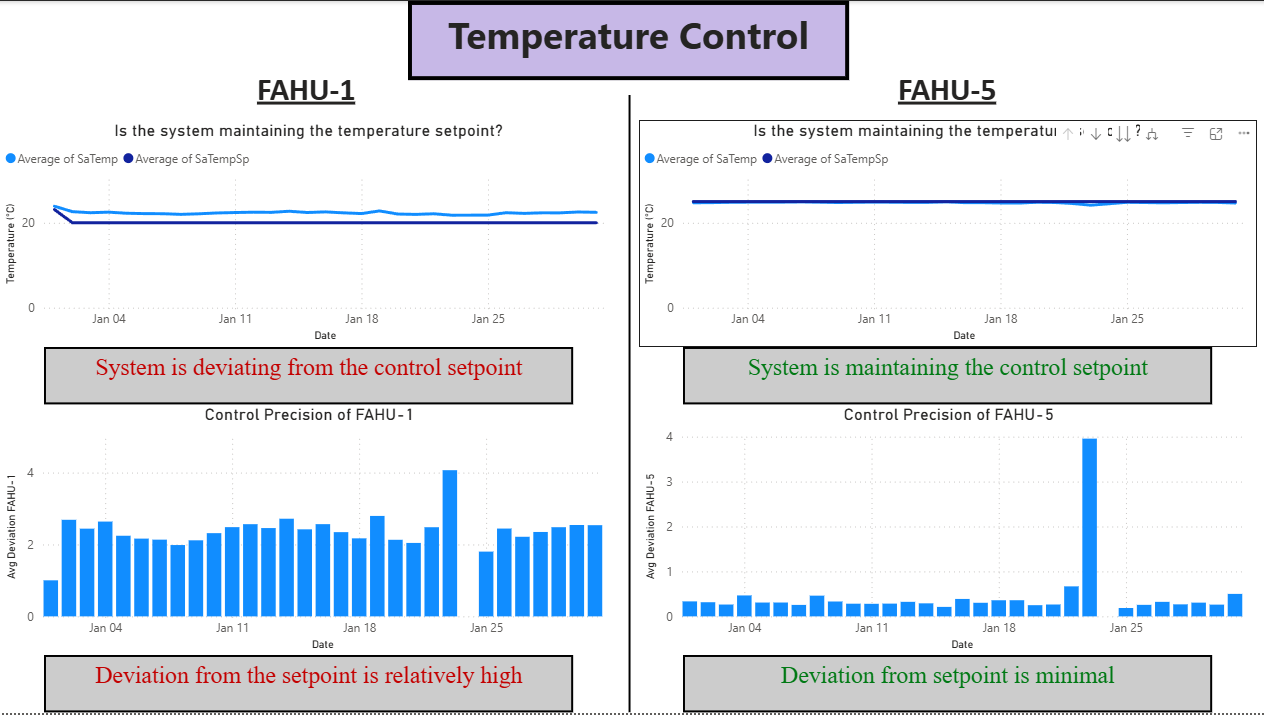

Layout of this report page (visuals, bound fields, positions):
{"tool":"powerbi","page":{"name":"Temperature Control","canvas":[1280,720],"ordinal":2},"visuals":[{"type":"textbox","box":[254.8,65.2,114.8,59.3],"z":0},{"type":"textbox","box":[902.6,65.2,114.8,59.3],"z":1000},{"type":"shape","box":[624.4,95.3,23.3,624.4],"z":2000},{"type":"lineChart","title":"Is the system maintaining the temperature setpoint?","fields":{"Category":["TimeSpine.Date & TimeValue Hierarchy.Date","TimeSpine.Date & TimeValue Hierarchy.TimeValue"],"Y":["Avg(FAHU-1.SaTemp)","Avg(FAHU-1.SaTempSp)"]},"box":[0,120.6,624.9,228.8],"z":3000},{"type":"lineChart","title":"Is the system maintaining the temperature setpoint?","fields":{"Category":["TimeSpine.Date & TimeValue Hierarchy.Date","TimeSpine.Date & TimeValue Hierarchy.TimeValue"],"Y":["Avg(FAHU-5.SaTemp)","Avg(FAHU-5.SaTempSp)"]},"box":[645.7,120.6,624.9,228.8],"z":4000},{"type":"columnChart","title":"Control Precision of FAHU-1","fields":{"Category":["TimeSpine.Date"],"Y":["_Measures.Avg Deviation FAHU-1"]},"box":[1,407.6,623.9,253.7],"z":5000},{"type":"columnChart","title":"Control Precision of FAHU-5","fields":{"Category":["TimeSpine.Date"],"Y":["_Measures.Avg Deviation FAHU-5"]},"box":[646.8,407.6,624.9,253.7],"z":6000},{"type":"textbox","box":[412.5,0,445.9,79.9],"z":7000},{"type":"textbox","box":[44.7,349.4,535.5,58.2],"z":8000},{"type":"textbox","box":[44.7,661.3,535.5,58.2],"z":9000},{"type":"textbox","box":[690.4,349.4,535.5,58.2],"z":10000},{"type":"textbox","box":[690.4,661.3,535.5,58.2],"z":11000}]}

Visuals, with their boxes in screenshot pixels (x1, y1, x2, y2), scaled from the page's 1280x720 canvas onto the 1264x715 screenshot:
textbox: {"x1": 252, "y1": 65, "x2": 365, "y2": 124}
textbox: {"x1": 891, "y1": 65, "x2": 1005, "y2": 124}
shape: {"x1": 617, "y1": 95, "x2": 640, "y2": 714}
"Is the system maintaining the temperature setpoint?" lineChart: {"x1": 0, "y1": 120, "x2": 617, "y2": 347}
"Is the system maintaining the temperature setpoint?" lineChart: {"x1": 638, "y1": 120, "x2": 1255, "y2": 347}
"Control Precision of FAHU-1" columnChart: {"x1": 1, "y1": 405, "x2": 617, "y2": 657}
"Control Precision of FAHU-5" columnChart: {"x1": 639, "y1": 405, "x2": 1256, "y2": 657}
textbox: {"x1": 407, "y1": 0, "x2": 848, "y2": 79}
textbox: {"x1": 44, "y1": 347, "x2": 573, "y2": 405}
textbox: {"x1": 44, "y1": 657, "x2": 573, "y2": 714}
textbox: {"x1": 682, "y1": 347, "x2": 1211, "y2": 405}
textbox: {"x1": 682, "y1": 657, "x2": 1211, "y2": 714}
